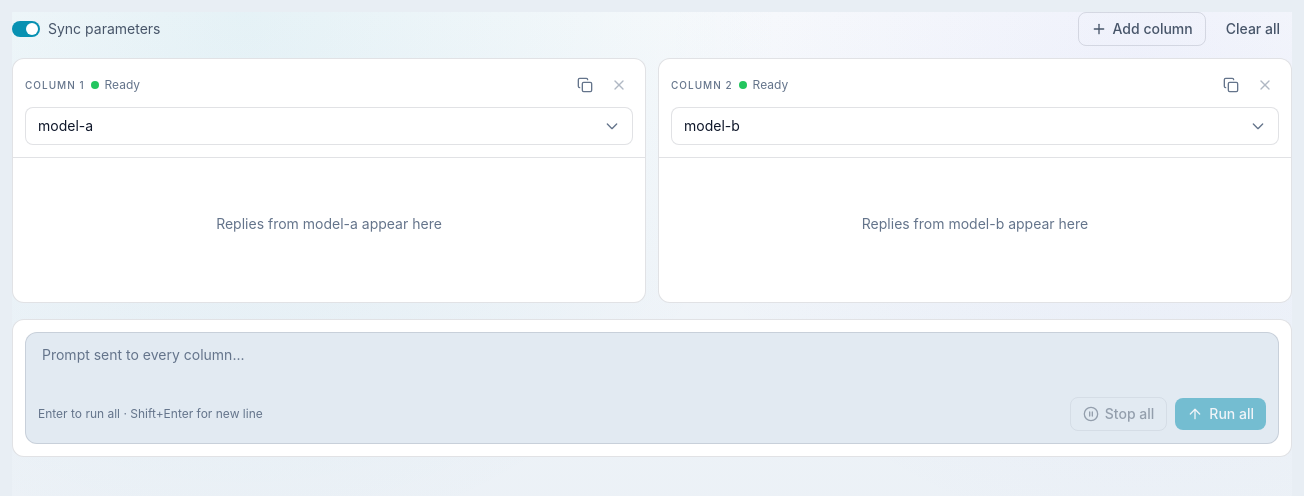
Test case: CompareView › stopping one column leaves the other streaming; Stop all stops the rest
In the text box named "Compare prompt": (652, 363) [26,333,1278,393], type "Go"
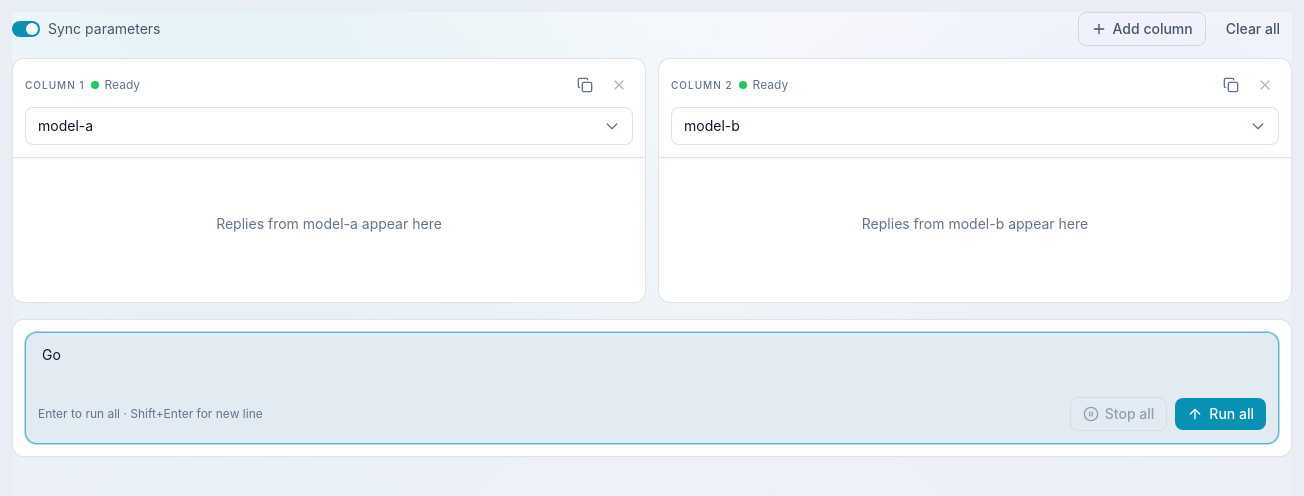
Click the button "Run all": (1221, 414) [1175,398,1266,430]
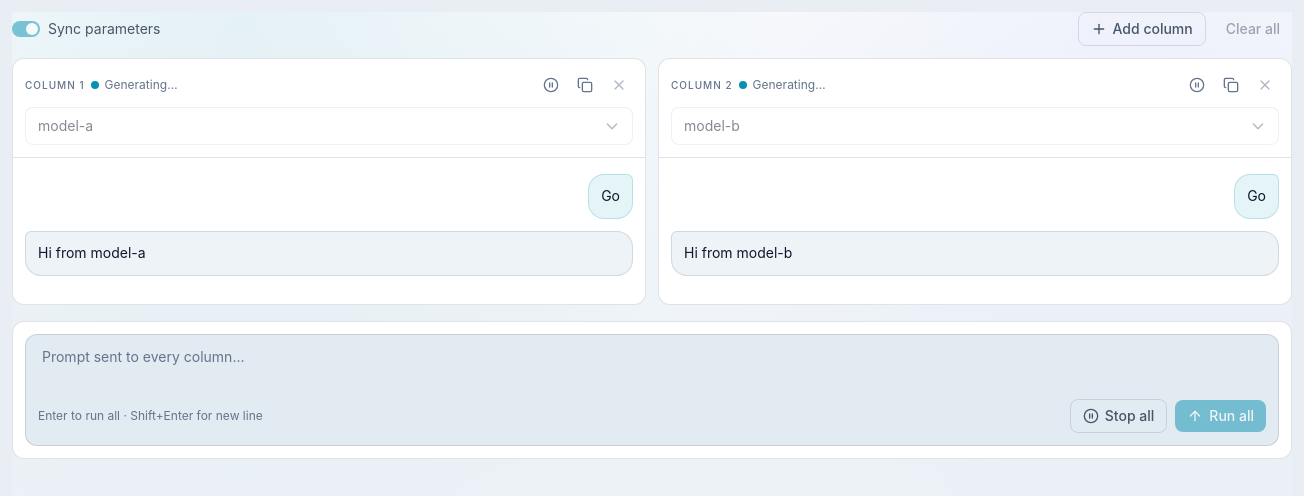
Result: the text "Hi from model-a" is shown at [38,244,146,261]
Result: the text "Hi from model-b" is shown at [684,244,792,261]
Click the button named "Stop Column 1": (551, 85) [537,71,565,99]
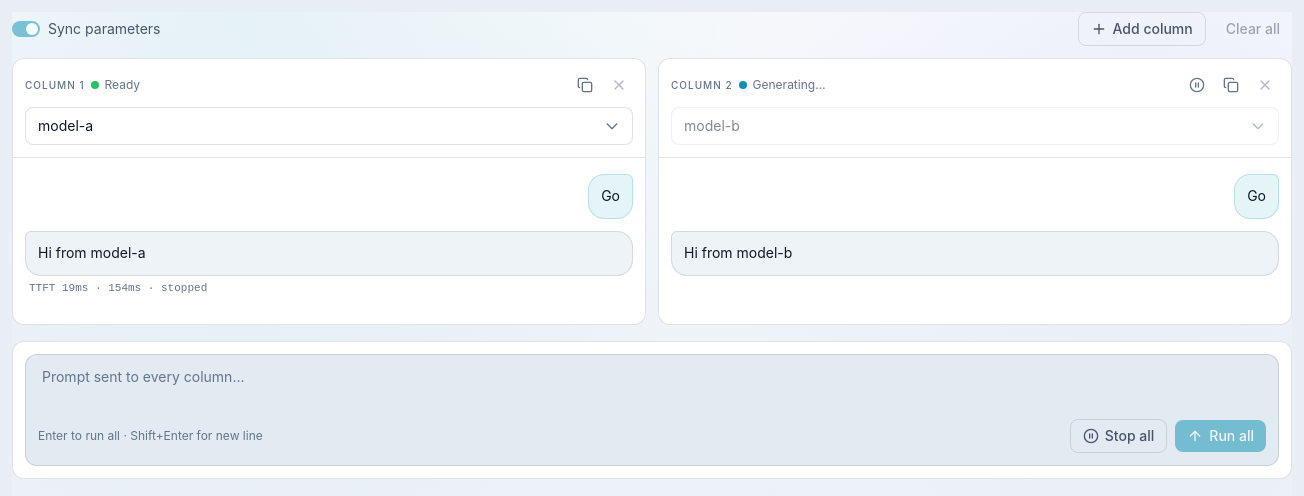
Result: the text "Generating…" is shown at [753,77,826,93]
Result: the text with test id "compare-metrics" shows "stopped" at [29,282,207,294]
Click the button "Stop all": (1119, 436) [1070,419,1167,453]
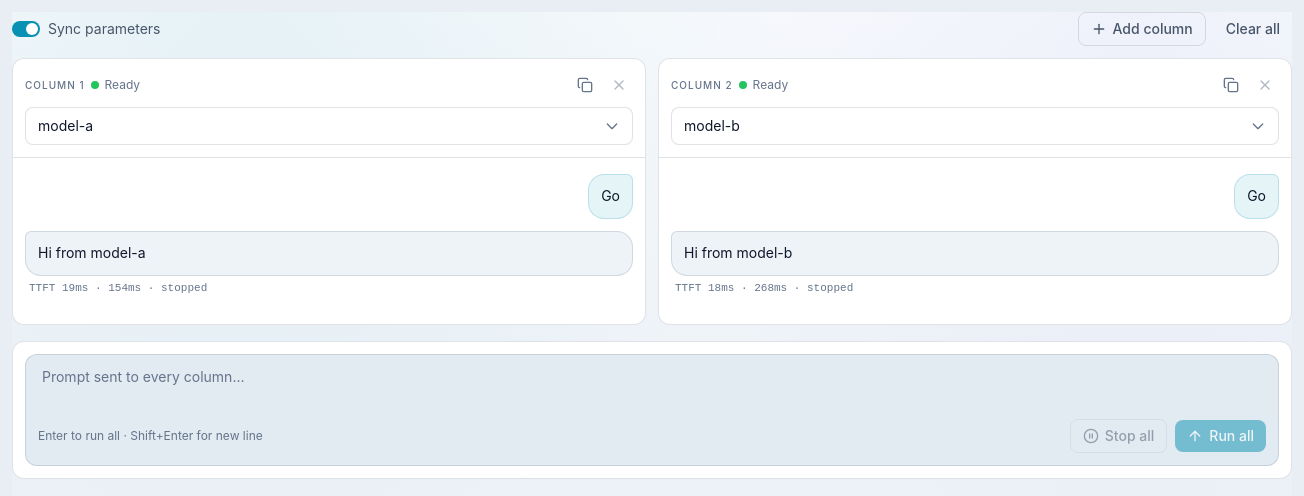
Result: the text with test id "compare-metrics" shows "stopped" at [675,282,853,294]
Result: the button "Stop all" is disabled at [1070,419,1167,453]
